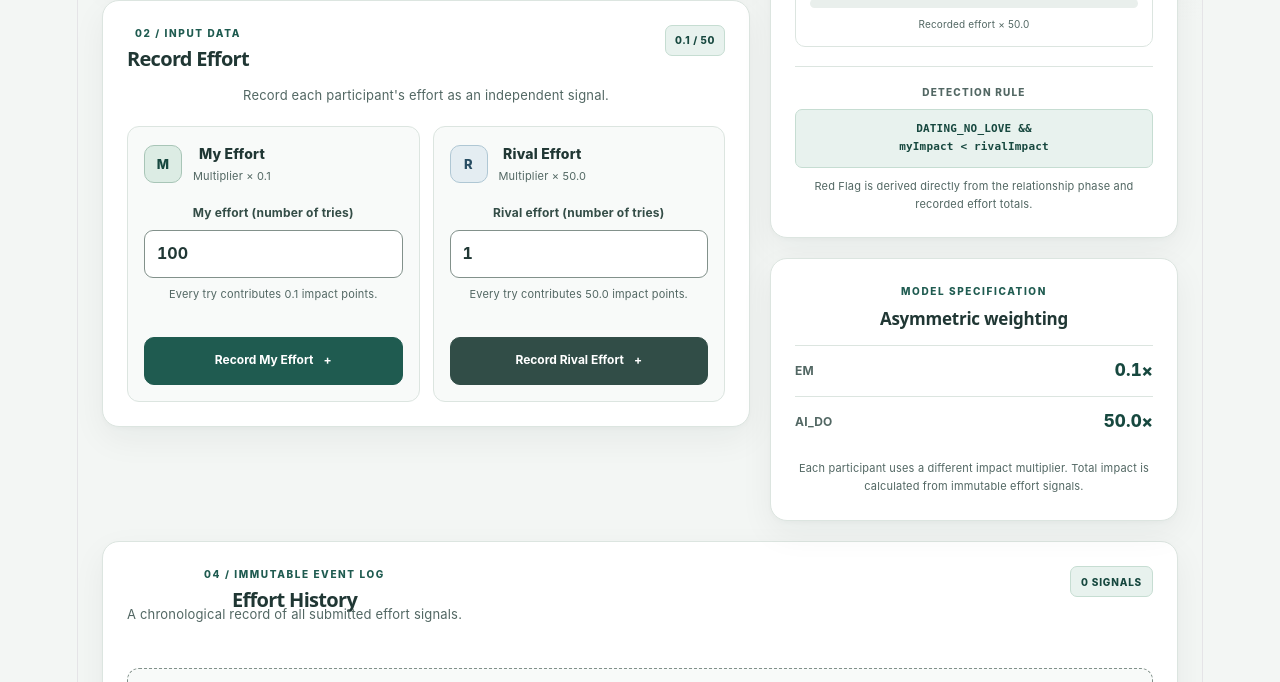
Test: SituationshipAnalyzer › cancels the ghosting timer when the rival responds
(page scrolled)
Click the button "Record My Effort +". click: (273, 361)
box: [144,337,402,385]
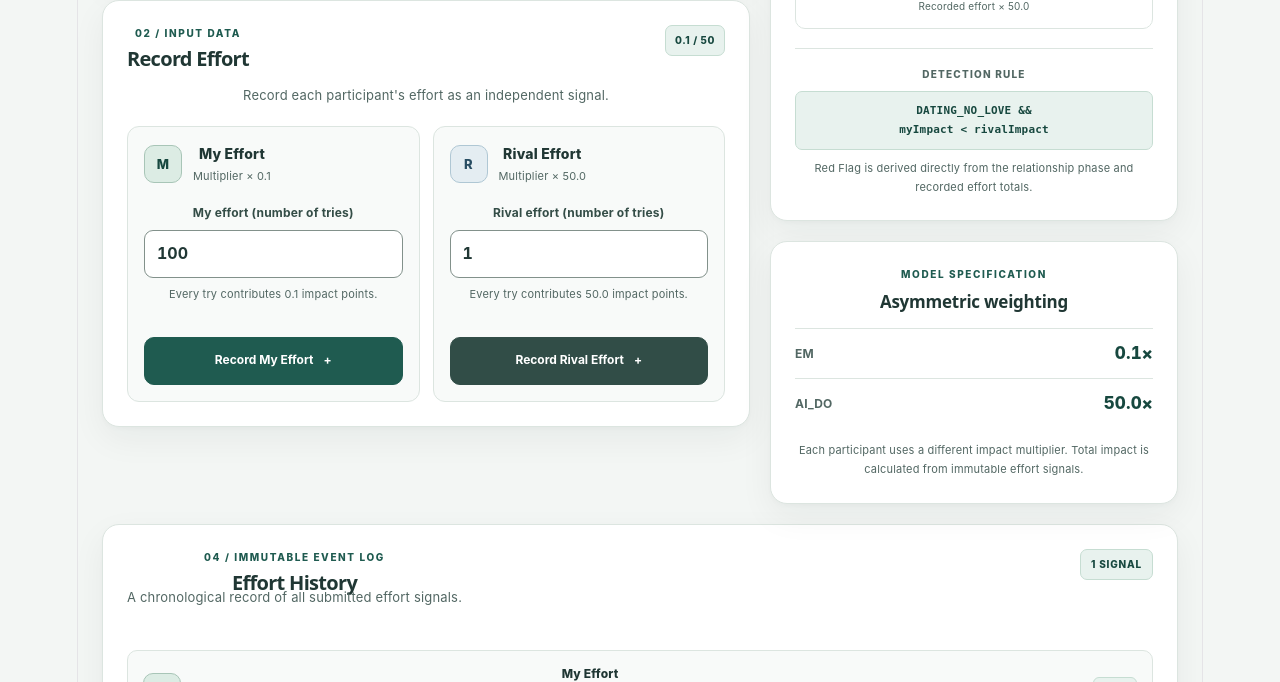
Rival responds before the timeout expires.
Click the button "Record Rival Effort +". click: (579, 361)
box: [450,337,708,385]
Wait 5000 ms
(page scrolled)
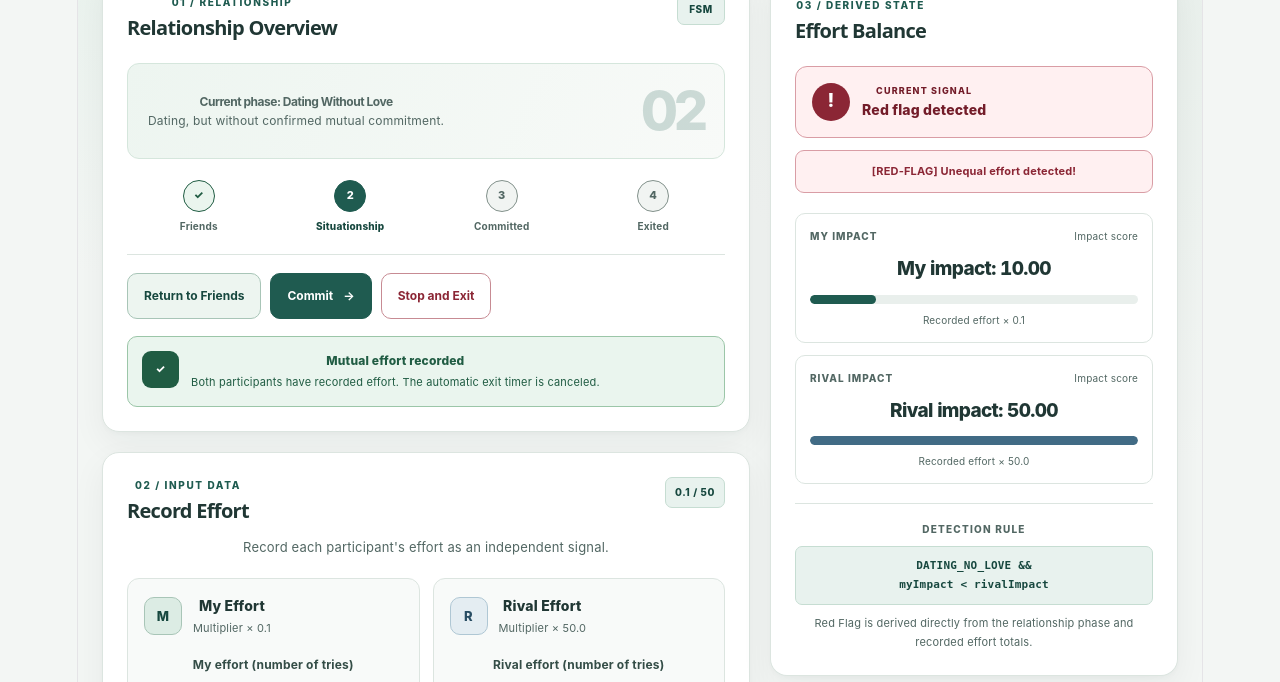
Expected: the text "Current phase: Dating Without Love" is shown, [200,94,393,108]
Now the text "Mutual effort recorded" is shown, box [326,353,464,368]
